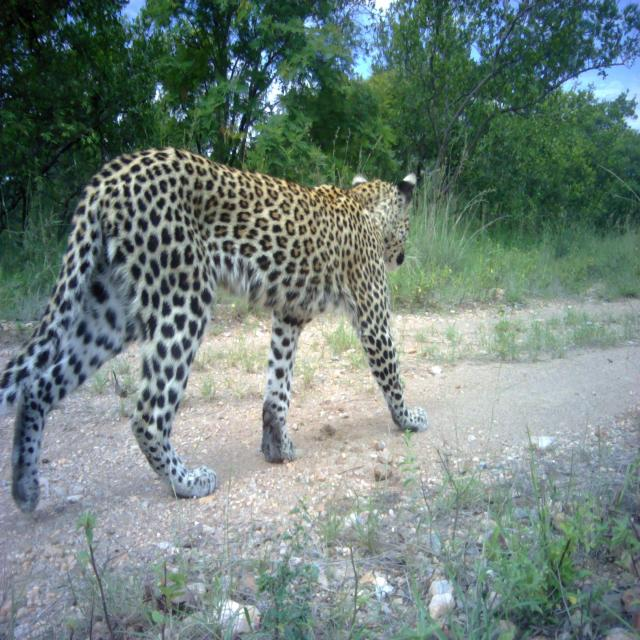Leopard: (10, 130, 440, 507)
